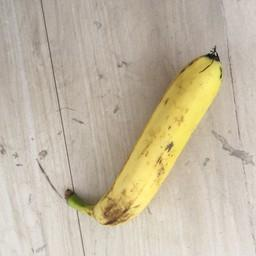Banana Ripe: (60, 41, 235, 242)
